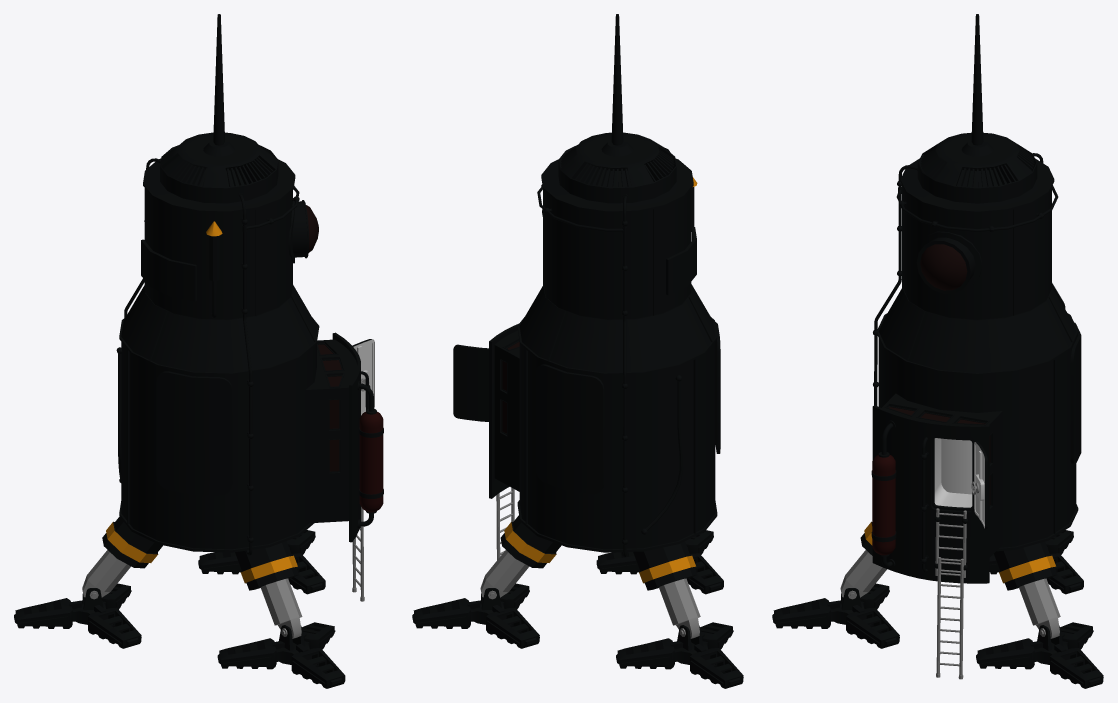
The picture shows the model from 3 angles, left to right: view 1: azimuth 30°, elevation 25°; view 2: azimuth 150°, elevation 25°; view 3: azimuth 270°, elevation 25°; orthographic projection.
Visible parts, largest first — view 1: body, cabin nosub, verin, nosub, nosub 3, pipes 2, verin 3, pipes, no sub, nosub 2, hublot, foot (+3 smaller); view 2: body, cabin nosub, verin 3, nosub 3, no sub, nosub 2, verin 2, door, pipes 2, nosub, foot 3, foot 2 (+1 smaller); view 3: body, cabin nosub, verin 2, nosub 2, nosub, hublot, pipes, no sub, ladder, inside, nosub 3, verin (+6 smaller).
Part boxes in pixels (x1,y1,x2,y2): body: (119,14,319,552); cabin nosub: (305,332,360,542); verin: (235,541,302,638); nosub: (217,622,345,688); nosub 3: (14,583,141,648); pipes 2: (116,158,299,555); verin 3: (82,516,162,597); pipes: (357,381,383,528); no sub: (127,147,315,523); nosub 2: (198,530,325,594); hublot: (288,200,318,263); foot: (272,625,311,664); body: (517,14,720,552); cabin nosub: (489,323,519,498); verin 3: (633,541,700,638); nosub 3: (616,622,743,688); no sub: (525,146,712,533); nosub 2: (412,583,539,648); verin 2: (480,515,561,597); door: (453,344,488,421); pipes 2: (541,148,697,557); nosub: (596,530,723,594); foot 3: (670,625,710,664); foot 2: (467,588,506,624); body: (876,14,1081,551); cabin nosub: (872,393,1002,583); verin 2: (994,541,1060,638); nosub 2: (976,622,1103,688); nosub: (772,583,899,648); hublot: (916,231,982,293); pipes: (871,420,896,567); no sub: (902,146,1072,533); ladder: (934,508,968,679); inside: (941,438,972,494); nosub 3: (989,530,1083,594); verin: (840,521,886,597).
Bounding box in the file's own units: 556 × 989 × 493.
